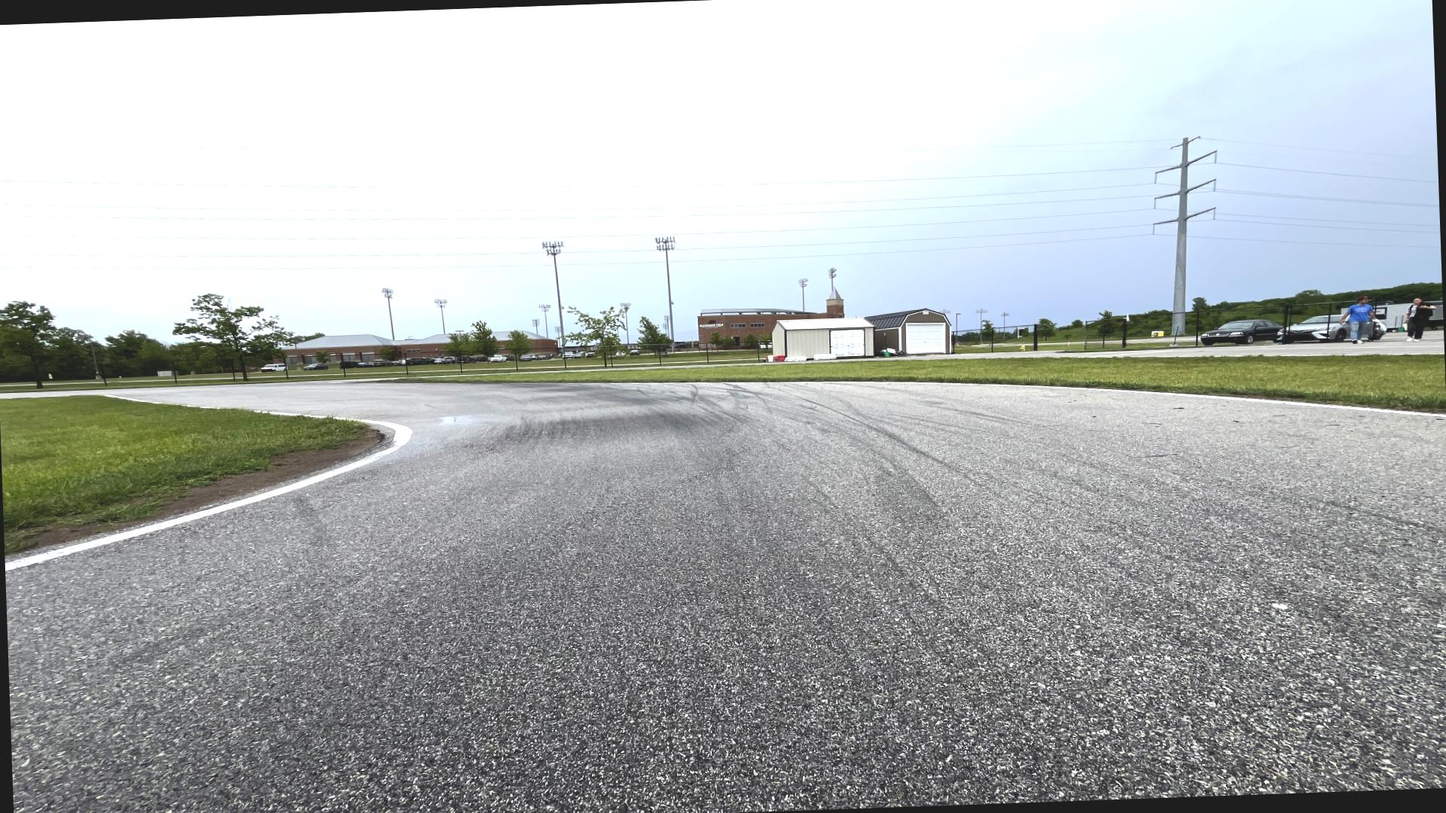white-line: (5, 410, 414, 577), (501, 382, 1445, 419), (100, 395, 229, 410)
